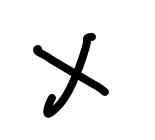mult: (33, 33, 108, 115)
